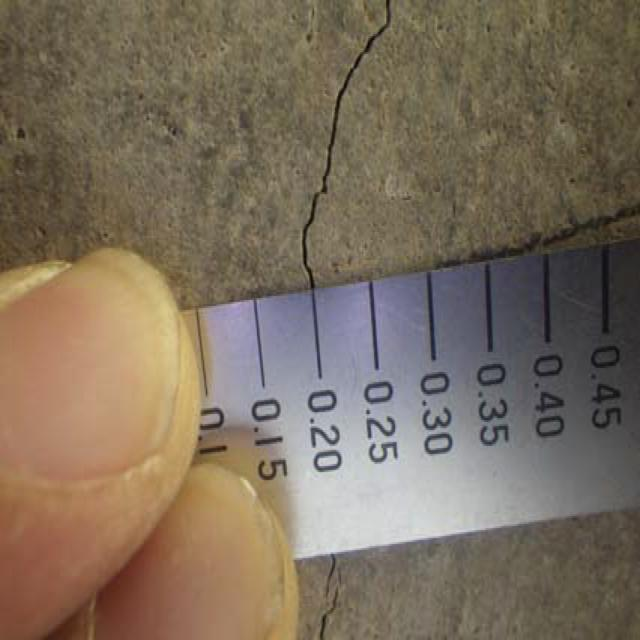crack: (290, 2, 400, 284), (300, 558, 345, 640)
